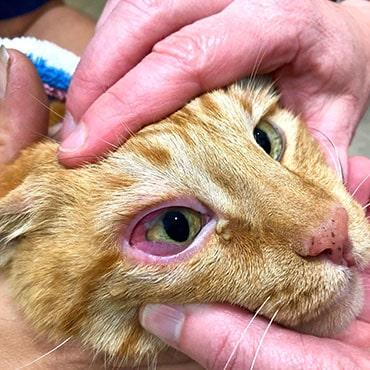eye_infection: (123, 196, 212, 256)
